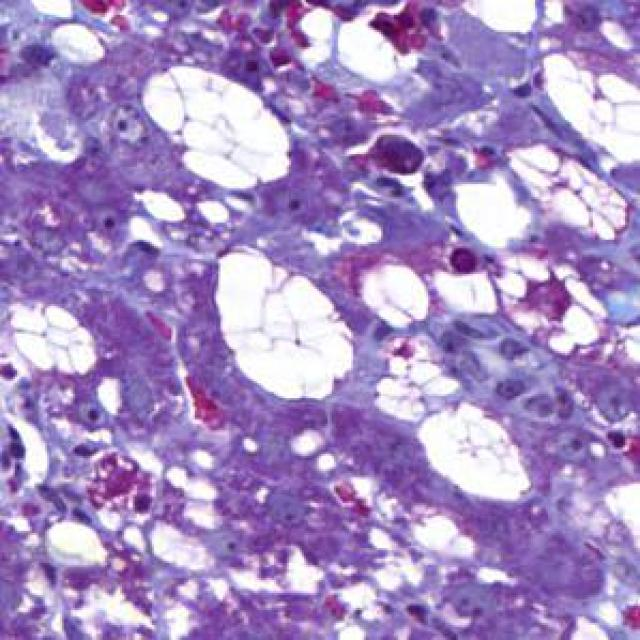ballooning: (212, 246, 360, 405), (135, 58, 295, 195), (498, 137, 636, 253), (409, 400, 539, 510)
